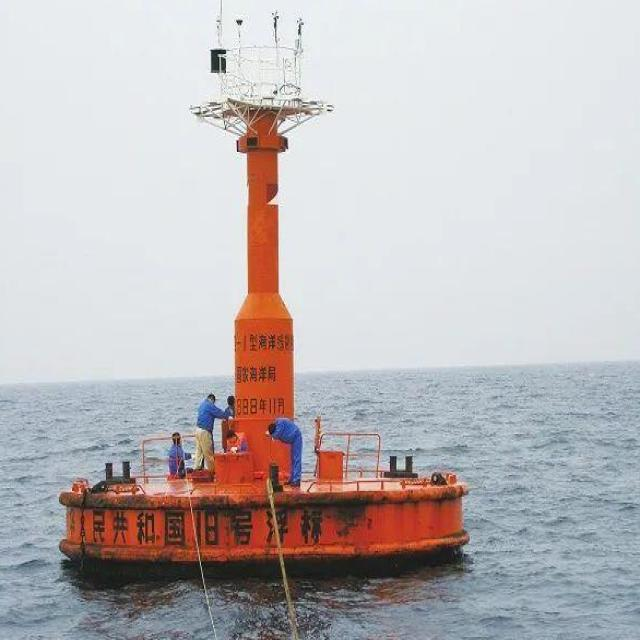buoy: (63, 11, 477, 572)
